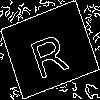R: (24, 24, 71, 80)
